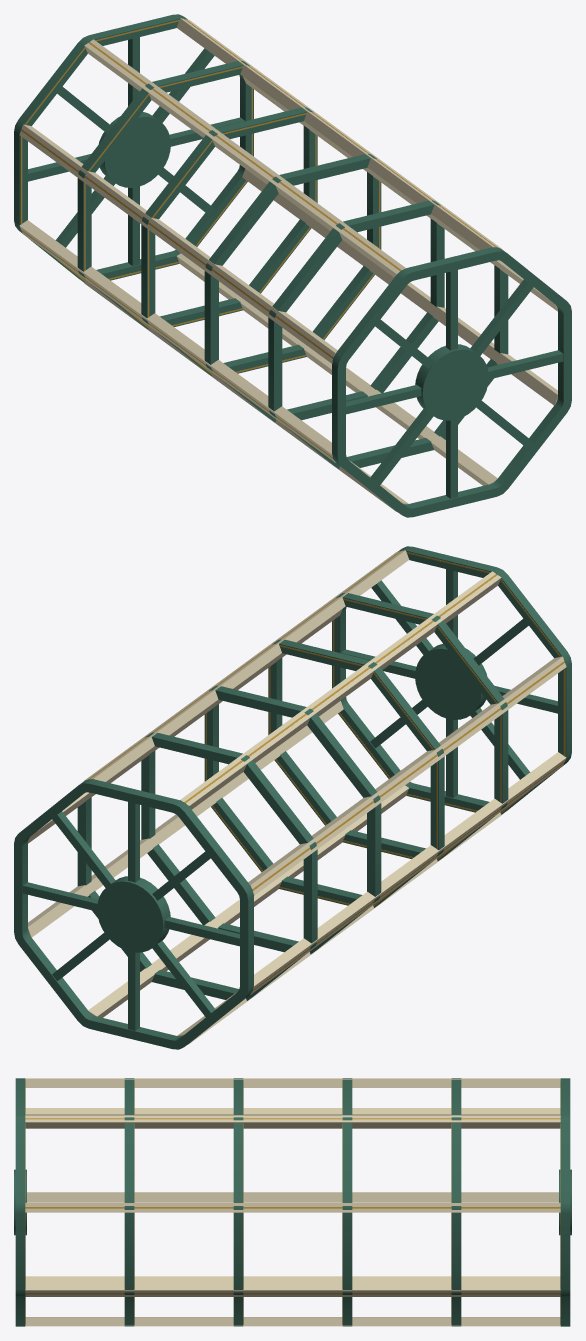
Rendered from cargo4800_frame.obj.
3 renders of one model, top to bottom at view 1: azimuth 30°, elevation 25°; view 2: azimuth 150°, elevation 25°; view 3: azimuth 270°, elevation 25°, orthographic. The views are drawn at different scales.
Parts seen in each view (by area): view 1: cargo4800_frame; view 2: cargo4800_frame; view 3: cargo4800_frame.
Boxes of the visible parts, <box> form: cargo4800_frame: <box>14,14,571,517</box>; cargo4800_frame: <box>14,546,571,1049</box>; cargo4800_frame: <box>14,1078,571,1326</box>.
Size of the model in its own units: 14.18 by 14.18 by 34.03.
